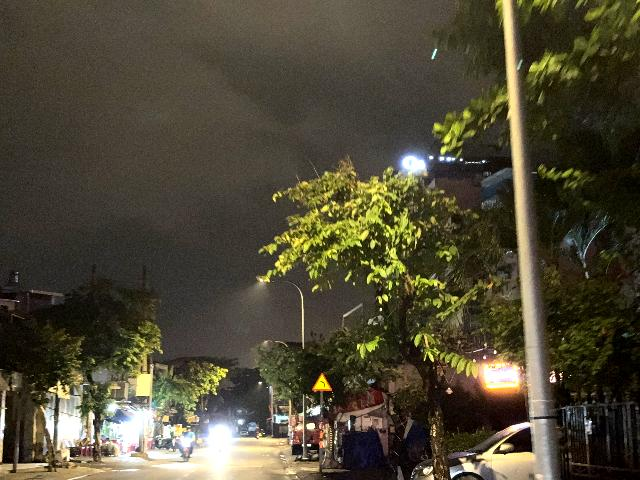cho-ngoat-nguy-hiem-ben-trai: (312, 372, 332, 391)
